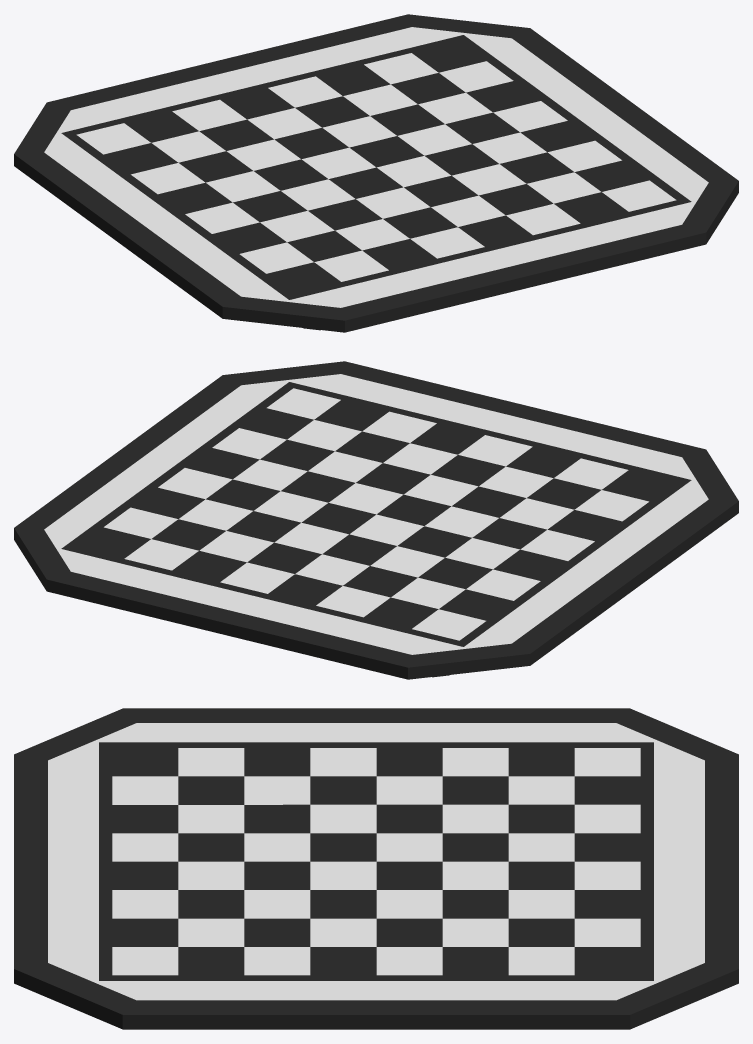
File: chessBoard.glb
The picture shows the model from 3 angles, top to bottom: view 1: azimuth 30°, elevation 25°; view 2: azimuth 150°, elevation 25°; view 3: azimuth 270°, elevation 25°; orthographic projection. The views are drawn at different scales.
Parts seen in each view (by area): view 1: SM_Chessboard; view 2: SM_Chessboard; view 3: SM_Chessboard.
Part boxes in pixels (x1,y1,x2,y2): SM_Chessboard: (14,14,738,332); SM_Chessboard: (14,361,738,679); SM_Chessboard: (14,708,738,1029).
Bounding box in the file's own units: 0.5846 × 0.065 × 0.5846.
Materials: 1 (1 with a texture image).
